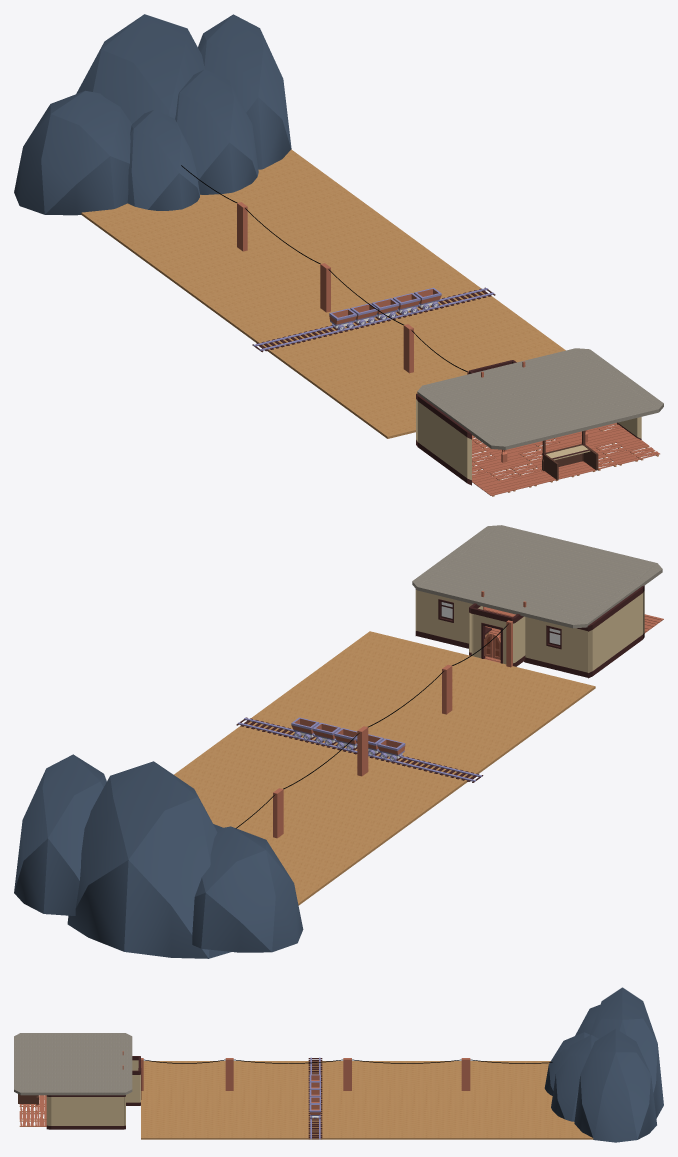
File: TelegraphOffice.obj
3 renders of one model, top to bottom at view 1: azimuth 30°, elevation 25°; view 2: azimuth 150°, elevation 25°; view 3: azimuth 270°, elevation 25°, orthographic. The views are drawn at different scales.
Parts seen in each view (by area): view 1: porch_floorCenter, icosphere_half, roof_flat, platform_wood, wall_paintBorders, platform_woodCrooked, cart, poles_garland, track_mineStraight; view 2: porch_floorCenter, icosphere_half, roof_flat, wall_paintBorders, poles_garland, cart, track_mineStraight, doorway_doorSwinging, window_squareGlassLarge, wall; view 3: porch_floorCenter, icosphere_half, roof_flat, wall_paintBorders, poles_garland, track_mineStraight, cart, platform_wood, platform_woodCrooked.
Part boxes in pixels (left/top/right/bottom): porch_floorCenter: left=81, top=149, right=598, bottom=479; icosphere_half: left=14, top=14, right=291, bottom=215; roof_flat: left=417, top=348, right=663, bottom=449; platform_wood: left=472, top=427, right=648, bottom=496; wall_paintBorders: left=416, top=360, right=641, bottom=485; platform_woodCrooked: left=472, top=423, right=659, bottom=481; cart: left=329, top=287, right=441, bottom=330; poles_garland: left=181, top=165, right=468, bottom=374; track_mineStraight: left=252, top=287, right=495, bottom=352; porch_floorCenter: left=174, top=631, right=595, bottom=905; icosphere_half: left=14, top=754, right=303, bottom=958; roof_flat: left=412, top=525, right=662, bottom=628; wall_paintBorders: left=415, top=585, right=644, bottom=678; poles_garland: left=236, top=620, right=512, bottom=838; cart: left=291, top=717, right=405, bottom=760; track_mineStraight: left=236, top=717, right=483, bottom=782; doorway_doorSwinging: left=471, top=614, right=506, bottom=664; window_squareGlassLarge: left=435, top=595, right=564, bottom=653; wall: left=435, top=607, right=564, bottom=671; porch_floorCenter: left=18, top=1061, right=593, bottom=1139; icosphere_half: left=544, top=987, right=663, bottom=1142; roof_flat: left=14, top=1033, right=132, bottom=1095; wall_paintBorders: left=46, top=1056, right=140, bottom=1129; poles_garland: left=141, top=1058, right=552, bottom=1090; track_mineStraight: left=308, top=1057, right=322, bottom=1139; cart: left=309, top=1074, right=320, bottom=1119; platform_wood: left=19, top=1095, right=46, bottom=1126; platform_woodCrooked: left=19, top=1104, right=46, bottom=1126.
Bounding box in the file's own units: 12.63 × 7.49 × 37.36.
13 materials, 2 textured.
